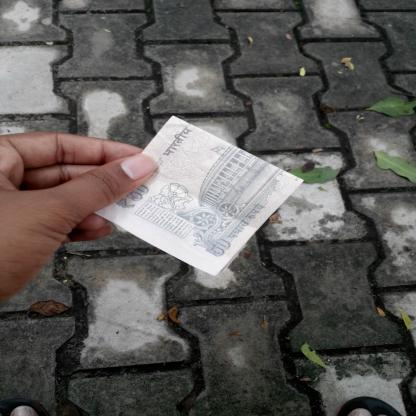Old50Back: (94, 115, 304, 277)
